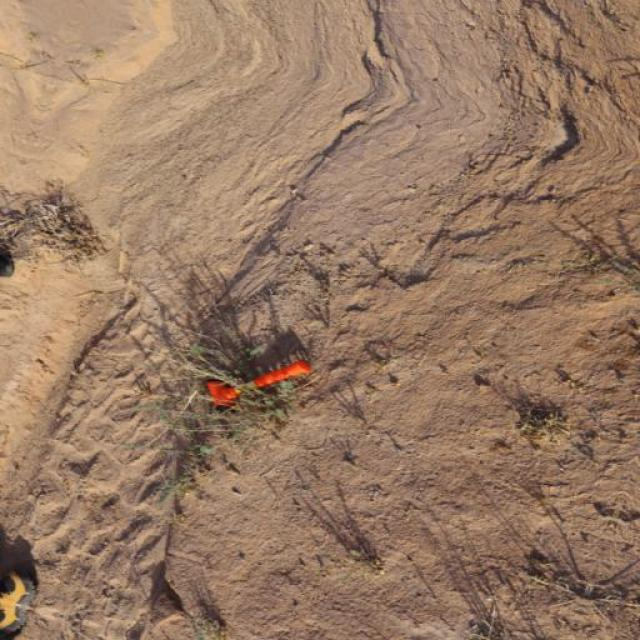mallet: (206, 356, 314, 409)
